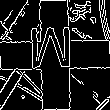M_S: (32, 29, 78, 81)
